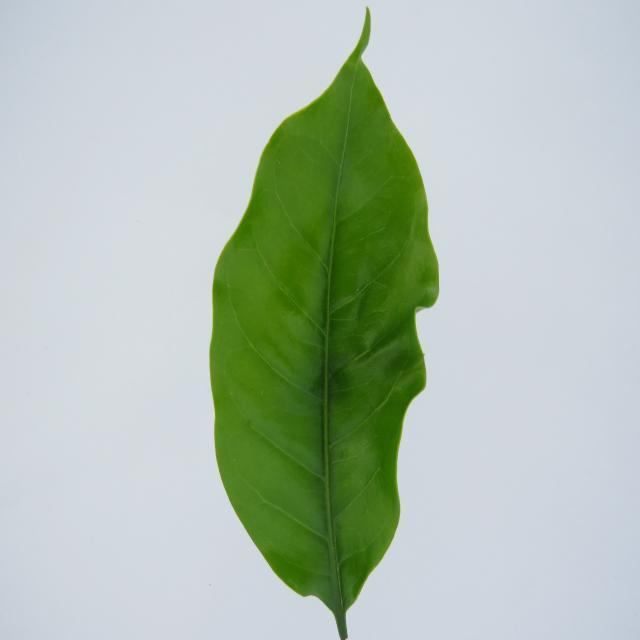DeficienciaNutricional-Calcio: (210, 10, 439, 638)
